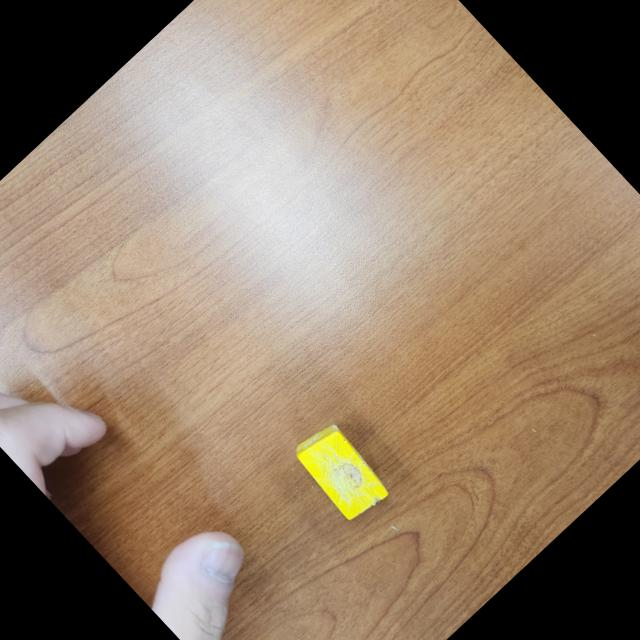broken: (286, 414, 397, 527)
